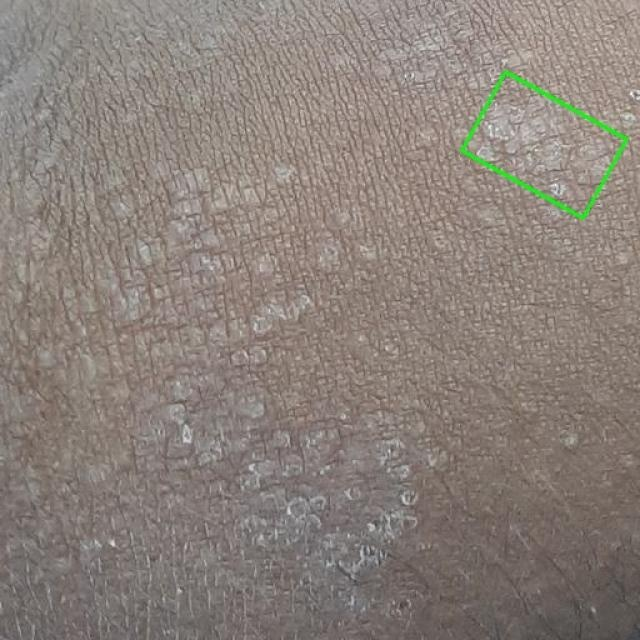Atopic Dermatitis: (462, 72, 626, 218)
